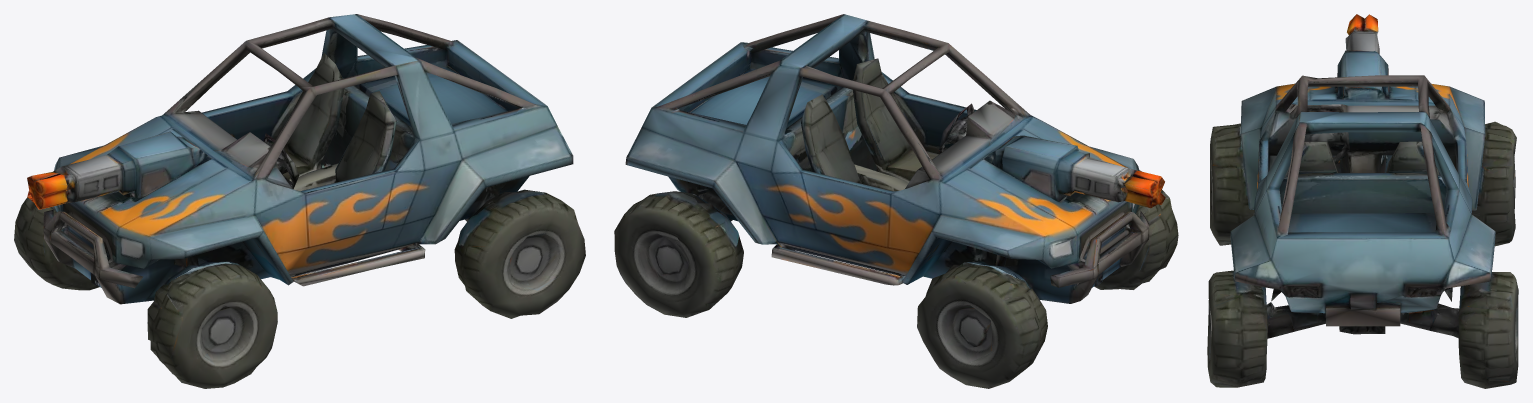
Rendered from scorcher.glb.
The picture shows the model from 3 angles, left to right: view 1: azimuth 30°, elevation 25°; view 2: azimuth 150°, elevation 25°; view 3: azimuth 270°, elevation 25°; orthographic projection. The views are drawn at different scales.
Visible parts, largest first — view 1: Mesh1.0; view 2: Mesh1.0; view 3: Mesh1.0.
Boxes of the visible parts, box(x1,y1,x2,y2) form: Mesh1.0: box(14, 14, 585, 388); Mesh1.0: box(614, 14, 1178, 388); Mesh1.0: box(1207, 14, 1518, 388).
Bounding box in the file's own units: 1.91 × 0.9031 × 1.11.
Materials: 1 (1 with a texture image).
